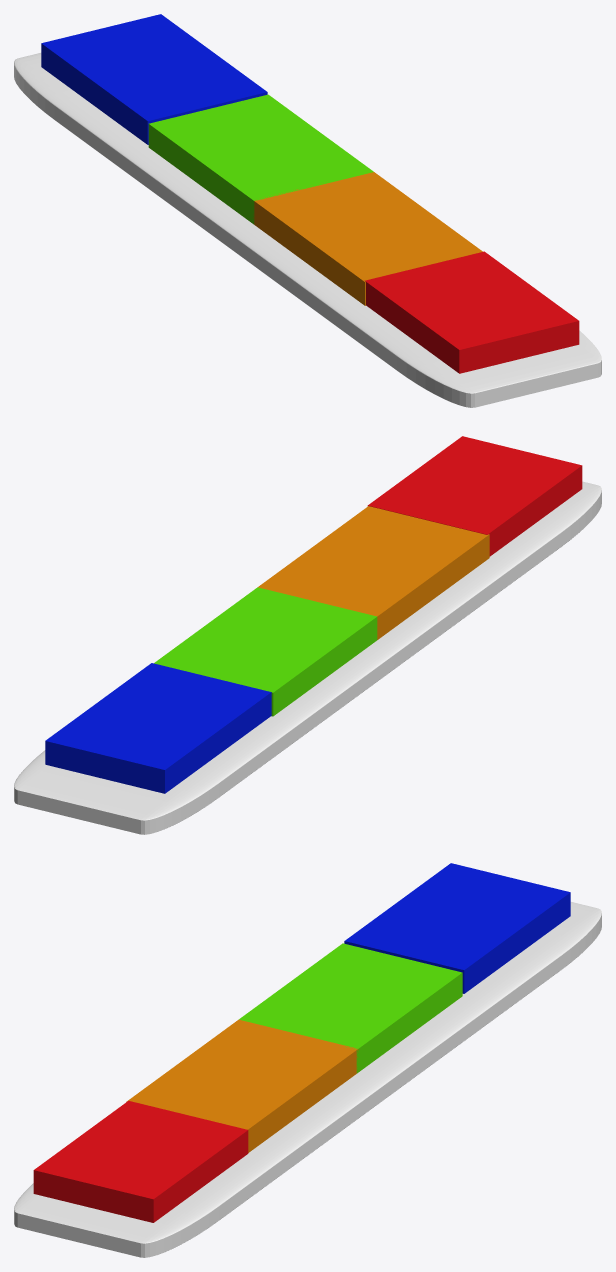
The model's file is tbeasy.fbx.
3 renders of one model, top to bottom at view 1: azimuth 30°, elevation 25°; view 2: azimuth 150°, elevation 25°; view 3: azimuth 330°, elevation 25°, orthographic.
Visible parts, largest first — view 1: Cube.003, Cube.004; view 2: Cube.003, Cube.004; view 3: Cube.003, Cube.004.
Part boxes in pixels (left/top/right/bottom): Cube.003: left=41, top=14, right=579, bottom=373; Cube.004: left=14, top=53, right=601, bottom=407; Cube.003: left=45, top=436, right=582, bottom=793; Cube.004: left=14, top=481, right=601, bottom=834; Cube.003: left=33, top=863, right=570, bottom=1222; Cube.004: left=14, top=902, right=601, bottom=1257.
Bounding box in the file's own units: 283 × 81.25 × 1363.
